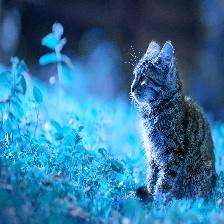kedo: (131, 40, 216, 205)
